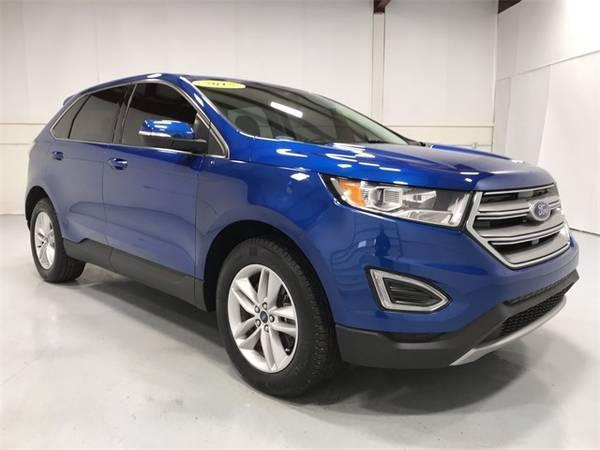Front_Bumper: (298, 205, 582, 367)
Front_Fender: (198, 132, 339, 269)
Front_Right_Door: (99, 147, 204, 315)
Front_Right_Window: (115, 86, 208, 158)
Front_Windshield: (188, 80, 422, 146)
Grille: (466, 183, 578, 270)
Hood: (227, 138, 557, 188)
Rear_Fender: (27, 96, 76, 187)
Rear_Right_Door: (42, 139, 111, 267)
Rear_Right_Window: (60, 88, 133, 143)
Right_Headlight: (324, 172, 481, 227)
Roof: (84, 74, 249, 144)
Wheel: (211, 237, 332, 399), (28, 195, 86, 284)
